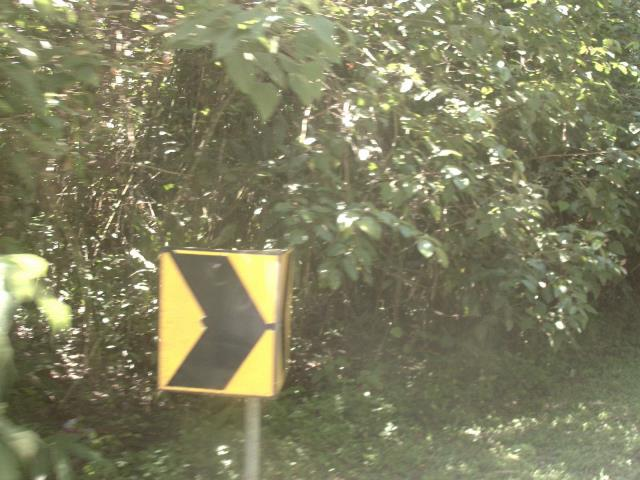traffic_sign: (140, 234, 304, 412)
